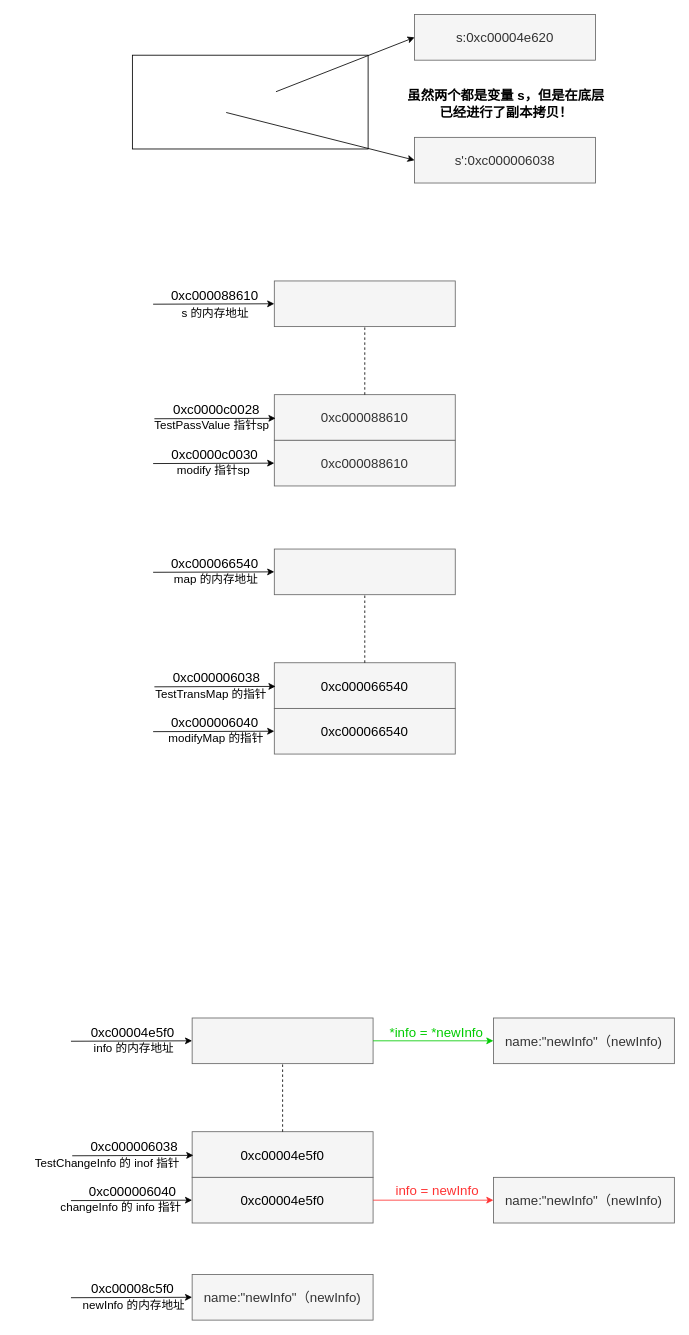
Some shapes in this 689 by 1335 pixel diagram are drawn without their labels. The shapes that lost their labels are listed below. From the top down, each one's centre as x and y in pixels, then its label:
pixel 250 101: func TestPassValue(t *testing.T) { s := "Kevin爱学习" modify(&s) }
pixel 364 303: "Kevin爱学习"（s)
pixel 364 571: ["kevin"]:"这次一定"（map)
pixel 282 1040: name:""（info)
